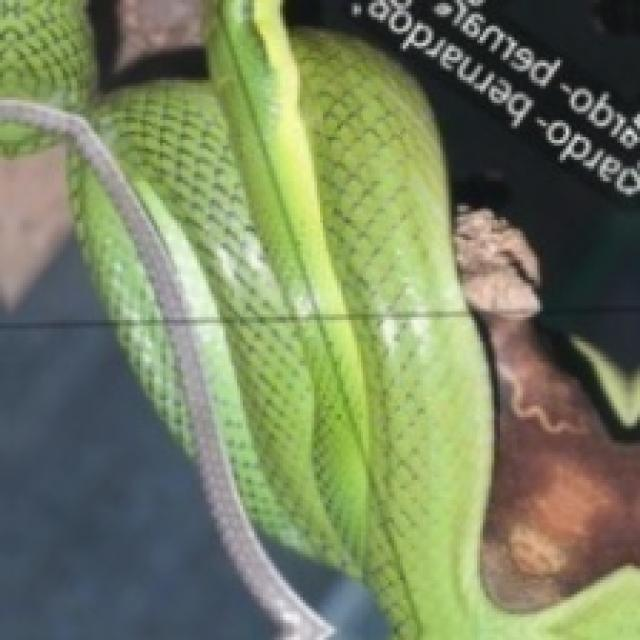red-tailed green ratsnake: (0, 0, 637, 637)
